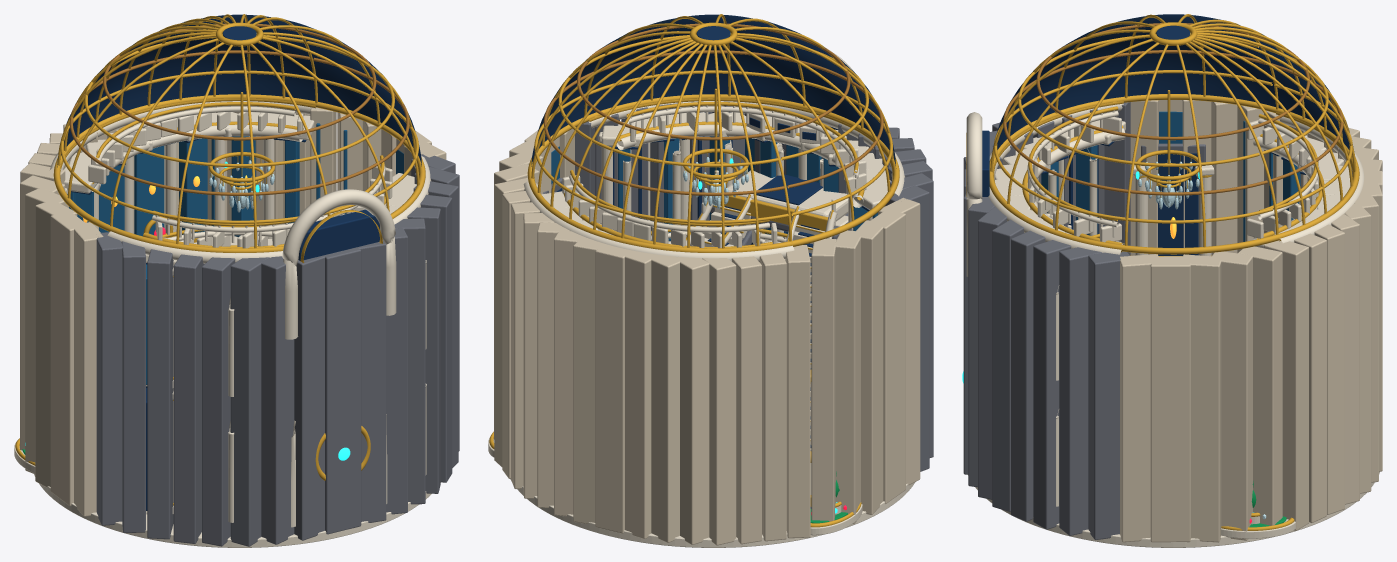
Rendered from vault-atrium.glb.
The picture shows the model from 3 angles, left to right: view 1: azimuth 30°, elevation 25°; view 2: azimuth 150°, elevation 25°; view 3: azimuth 270°, elevation 25°; orthographic projection.
Parts seen in each view (by area): view 1: vault-atrium-authored-batch-06-interior-shadow-marble, vault-atrium-authored-batch-04-interior-white-marble, vault-atrium-authored-batch-02-interior-polished-gold, vault-atrium-authored-batch-00-interior-pearl-marble, vault-atrium-360-completion-batch-14-interior-pearl-marble, vault-atrium-360-completion-batch-13-interior-midnight-ename, vault-atrium-360-completion-batch-15-interior-polished-gold, vault-atrium-360-completion-batch-12-interior-sapphire-ename, vault-atrium-360-completion-batch-11-interior-white-marble, vault-palace-atrium-visible-main-dome-underside, vault-atrium-authored-batch-10-interior-antique-gold, vault-atrium-authored-batch-01-interior-midnight-enamel (+3 smaller); view 2: vault-atrium-360-completion-batch-11-interior-white-marble, vault-atrium-authored-batch-04-interior-white-marble, vault-atrium-authored-batch-00-interior-pearl-marble, vault-atrium-authored-batch-02-interior-polished-gold, vault-palace-atrium-visible-main-dome-underside, vault-atrium-360-completion-batch-15-interior-polished-gold, vault-atrium-authored-batch-06-interior-shadow-marble, vault-atrium-360-completion-batch-14-interior-pearl-marble, vault-atrium-authored-batch-05-interior-sapphire-enamel, vault-atrium-authored-batch-01-interior-midnight-enamel, vault-atrium-authored-batch-10-interior-antique-gold, vault-atrium-360-completion-batch-17-interior-antique-gold (+1 smaller); view 3: vault-atrium-authored-batch-04-interior-white-marble, vault-atrium-authored-batch-06-interior-shadow-marble, vault-atrium-360-completion-batch-11-interior-white-marble, vault-atrium-authored-batch-02-interior-polished-gold, vault-atrium-authored-batch-00-interior-pearl-marble, vault-palace-atrium-visible-main-dome-underside, vault-atrium-360-completion-batch-15-interior-polished-gold, vault-atrium-360-completion-batch-14-interior-pearl-marble, vault-atrium-360-completion-batch-13-interior-midnight-ename, vault-atrium-authored-batch-10-interior-antique-gold, vault-atrium-authored-batch-05-interior-sapphire-enamel, vault-atrium-authored-batch-01-interior-midnight-enamel (+2 smaller).
Boxes of the visible parts, box(x1,y1,x2,y2) form: vault-atrium-authored-batch-06-interior-shadow-marble: box(96, 154, 459, 546); vault-atrium-authored-batch-04-interior-white-marble: box(20, 107, 446, 516); vault-atrium-authored-batch-02-interior-polished-gold: box(15, 17, 425, 505); vault-atrium-authored-batch-00-interior-pearl-marble: box(14, 155, 440, 547); vault-atrium-360-completion-batch-14-interior-pearl-marble: box(50, 101, 315, 246); vault-atrium-360-completion-batch-13-interior-midnight-ename: box(61, 14, 315, 194); vault-atrium-360-completion-batch-15-interior-polished-gold: box(55, 14, 317, 246); vault-atrium-360-completion-batch-12-interior-sapphire-ename: box(67, 136, 299, 236); vault-atrium-360-completion-batch-11-interior-white-marble: box(25, 105, 336, 236); vault-palace-atrium-visible-main-dome-underside: box(57, 20, 421, 167); vault-atrium-authored-batch-10-interior-antique-gold: box(69, 29, 409, 195); vault-atrium-authored-batch-01-interior-midnight-enamel: box(146, 26, 379, 510); vault-atrium-360-completion-batch-11-interior-white-marble: box(499, 178, 809, 545); vault-atrium-authored-batch-04-interior-white-marble: box(494, 129, 920, 538); vault-atrium-authored-batch-00-interior-pearl-marble: box(488, 52, 914, 547); vault-atrium-authored-batch-02-interior-polished-gold: box(489, 14, 899, 527); vault-palace-atrium-visible-main-dome-underside: box(531, 14, 896, 168); vault-atrium-360-completion-batch-15-interior-polished-gold: box(528, 36, 792, 252); vault-atrium-authored-batch-06-interior-shadow-marble: box(575, 102, 933, 471); vault-atrium-360-completion-batch-14-interior-pearl-marble: box(523, 175, 794, 261); vault-atrium-authored-batch-05-interior-sapphire-enamel: box(551, 136, 877, 241); vault-atrium-authored-batch-01-interior-midnight-enamel: box(609, 26, 869, 508); vault-atrium-authored-batch-10-interior-antique-gold: box(543, 23, 883, 188); vault-atrium-360-completion-batch-17-interior-antique-gold: box(544, 85, 784, 195); vault-atrium-authored-batch-04-interior-white-marble: box(1120, 100, 1308, 542); vault-atrium-authored-batch-06-interior-shadow-marble: box(963, 102, 1130, 539); vault-atrium-360-completion-batch-11-interior-white-marble: box(1267, 125, 1382, 522); vault-atrium-authored-batch-02-interior-polished-gold: box(966, 14, 1294, 530); vault-atrium-authored-batch-00-interior-pearl-marble: box(966, 103, 1379, 547); vault-palace-atrium-visible-main-dome-underside: box(993, 14, 1275, 149); vault-atrium-360-completion-batch-15-interior-polished-gold: box(1134, 20, 1359, 241); vault-atrium-360-completion-batch-14-interior-pearl-marble: box(1130, 114, 1364, 255); vault-atrium-360-completion-batch-13-interior-midnight-ename: box(1158, 23, 1353, 255); vault-atrium-authored-batch-10-interior-antique-gold: box(1003, 23, 1267, 195); vault-atrium-authored-batch-05-interior-sapphire-enamel: box(1041, 111, 1272, 241); vault-atrium-authored-batch-01-interior-midnight-enamel: box(982, 25, 1190, 233).
Size of the model in its own units: 11.29 by 12.72 by 11.31.
